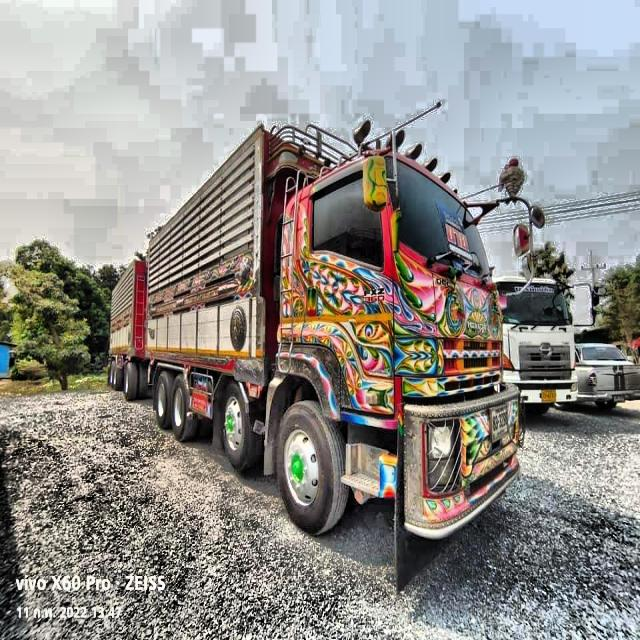trailer: (92, 115, 528, 551)
